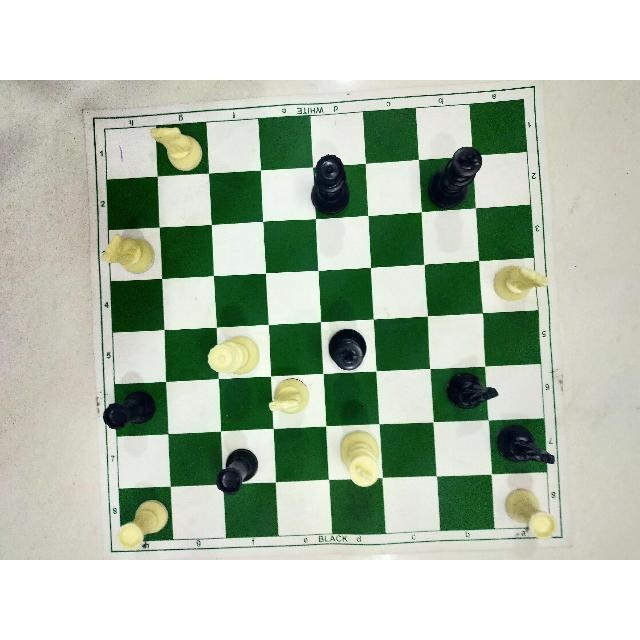black-king: (421, 143, 484, 209), (325, 325, 369, 373)
black-knight: (492, 422, 557, 473), (445, 363, 503, 410)
black-queen: (308, 150, 357, 217)
black-rook: (98, 386, 159, 432), (214, 443, 258, 498)
white-king: (336, 430, 383, 490)
white-knight: (147, 119, 208, 174), (489, 261, 553, 305), (103, 231, 157, 279), (267, 371, 311, 418)
white-queen: (202, 333, 262, 379)
white-rook: (113, 495, 171, 549), (502, 487, 558, 539)
